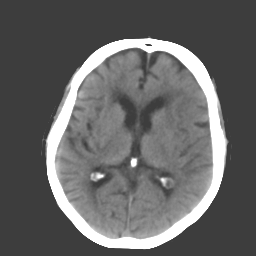ischemic: (167, 87, 211, 162)
